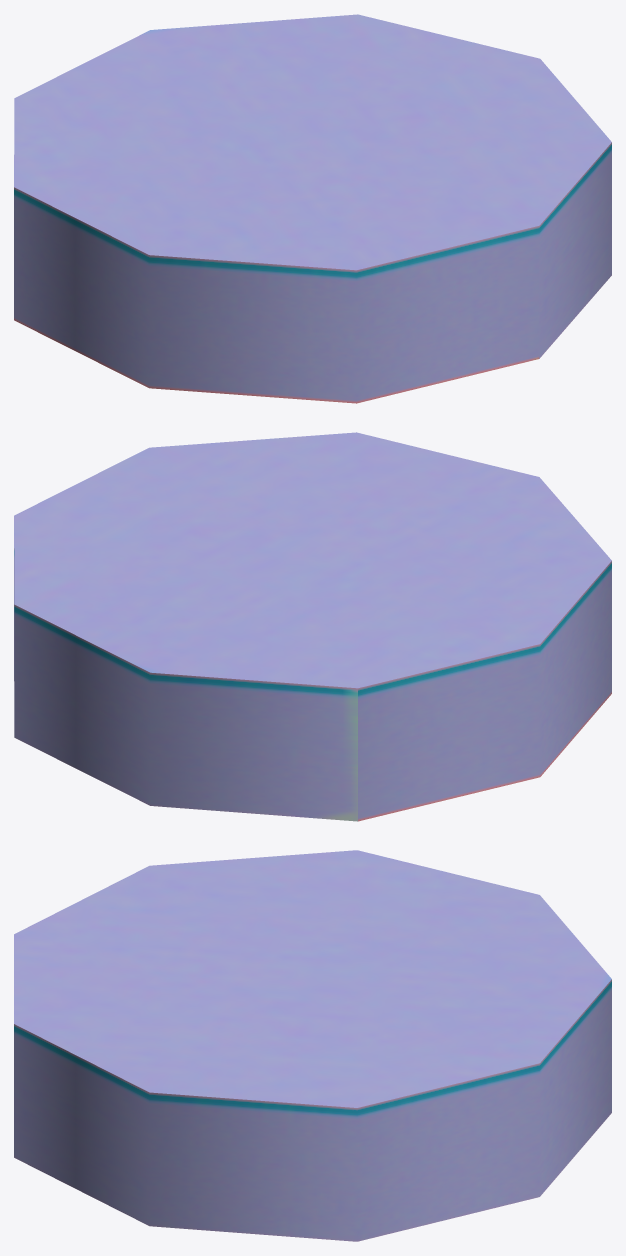
The model's file is LitFloodLightFastA4.fbx.
The picture shows the model from 3 angles, top to bottom: view 1: azimuth 30°, elevation 25°; view 2: azimuth 150°, elevation 25°; view 3: azimuth 270°, elevation 25°; orthographic projection.
Visible parts, largest first — view 1: LitFloodLightFastA4; view 2: LitFloodLightFastA4; view 3: LitFloodLightFastA4.
Part boxes in pixels (bbox=[...]): LitFloodLightFastA4: bbox=[14, 14, 611, 403]; LitFloodLightFastA4: bbox=[14, 432, 611, 821]; LitFloodLightFastA4: bbox=[14, 850, 611, 1241].
Bounding box in the file's own units: 32.94 × 7.97 × 32.28.
1 material, 1 textured.
